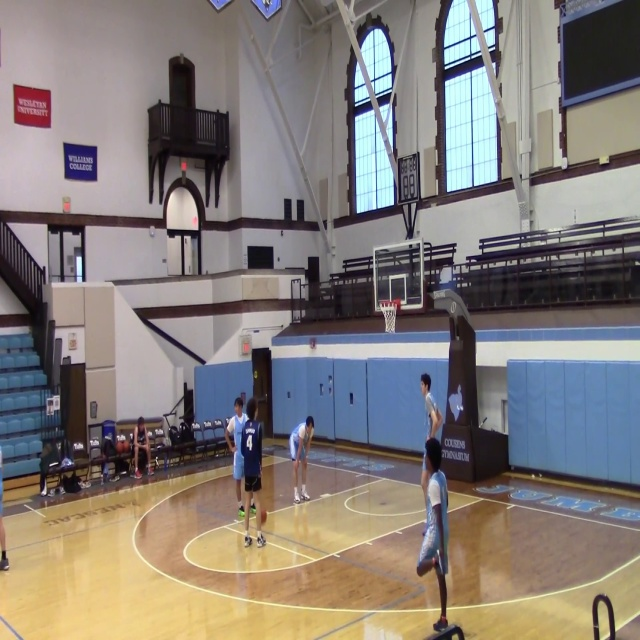Basketball: (260, 510, 267, 523)
